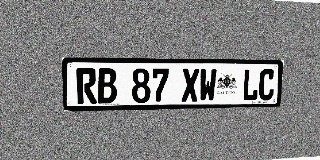7: (151, 68, 169, 103)
8: (132, 68, 150, 103)
B: (97, 68, 117, 104)
C: (258, 69, 275, 100)
L: (242, 69, 259, 101)
R: (76, 68, 97, 104)
W: (199, 69, 217, 102)
X: (181, 68, 199, 102)
